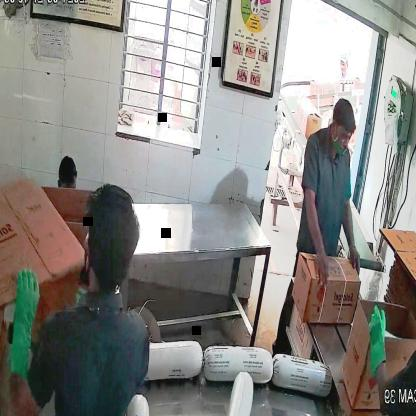no_goggles: (328, 127, 358, 148)
